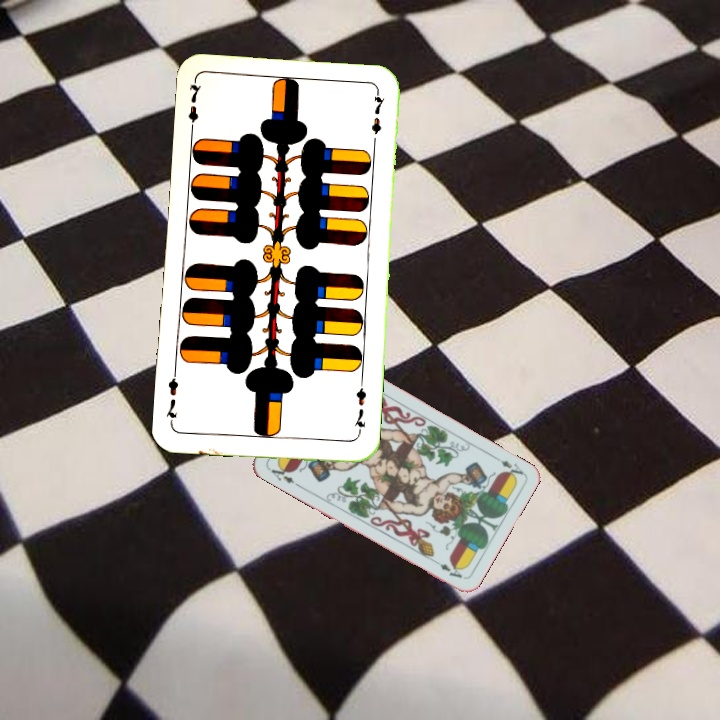E7: (184, 78, 204, 137), (350, 379, 369, 438)
EA: (489, 451, 526, 481), (264, 460, 301, 489)
